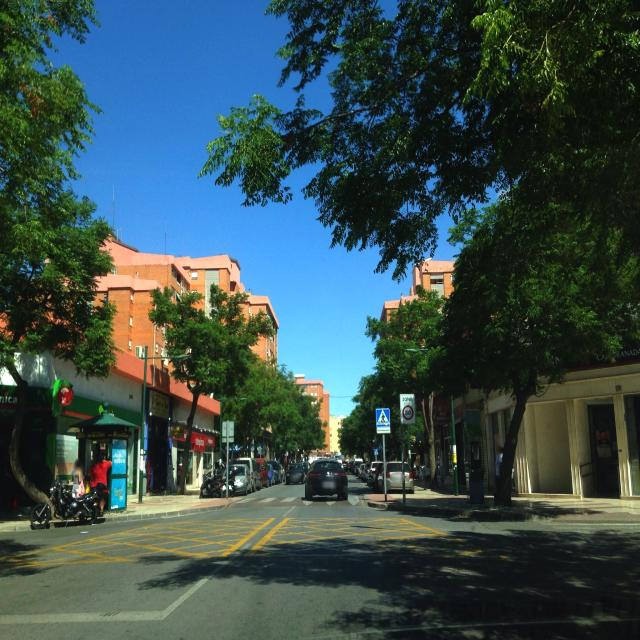bike: (30, 481, 92, 529), (200, 468, 232, 499)
car: (304, 458, 349, 502), (377, 461, 414, 493), (230, 457, 262, 491), (225, 464, 252, 496), (254, 458, 272, 488), (366, 461, 384, 486), (285, 463, 304, 485), (269, 460, 283, 483), (359, 463, 370, 481), (352, 459, 362, 475)
